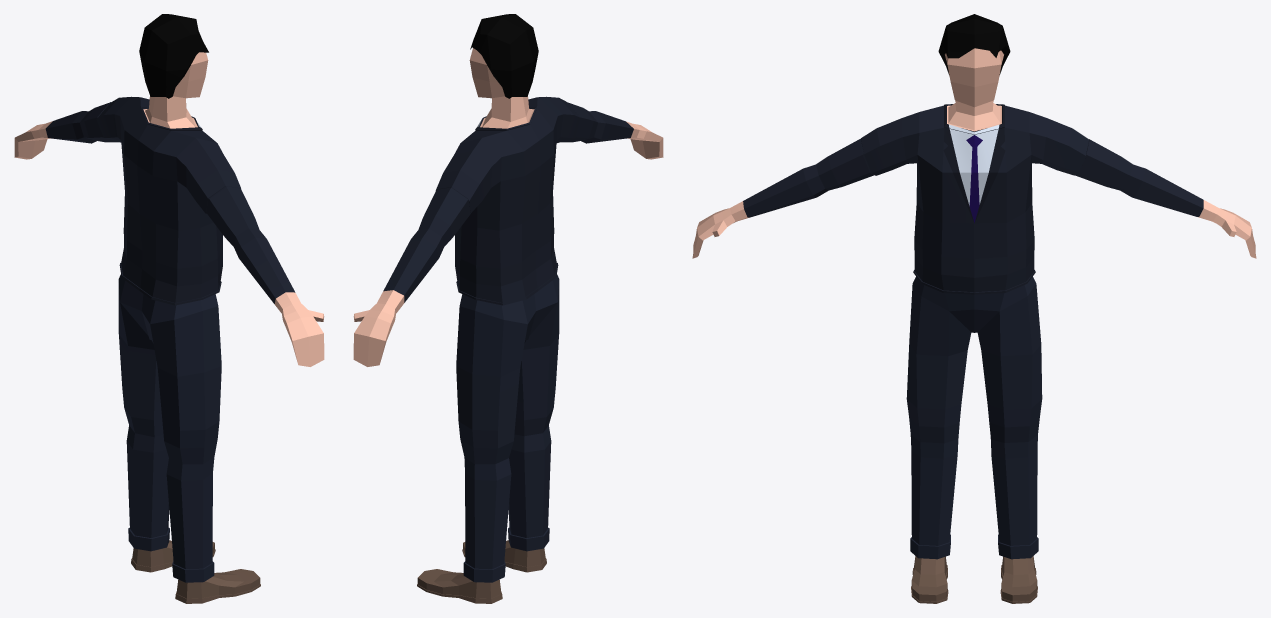
Rendered from principal.fbx.
3 renders of one model, left to right at view 1: azimuth 30°, elevation 25°; view 2: azimuth 150°, elevation 25°; view 3: azimuth 270°, elevation 25°, orthographic.
Visible parts, largest first — view 1: Male; view 2: Male; view 3: Male.
Part boxes in pixels (<box>): Male: <box>14,14,324,603</box>; Male: <box>353,14,663,603</box>; Male: <box>692,14,1256,603</box>.
Size of the model in its own units: 46.41 by 250 by 230.
